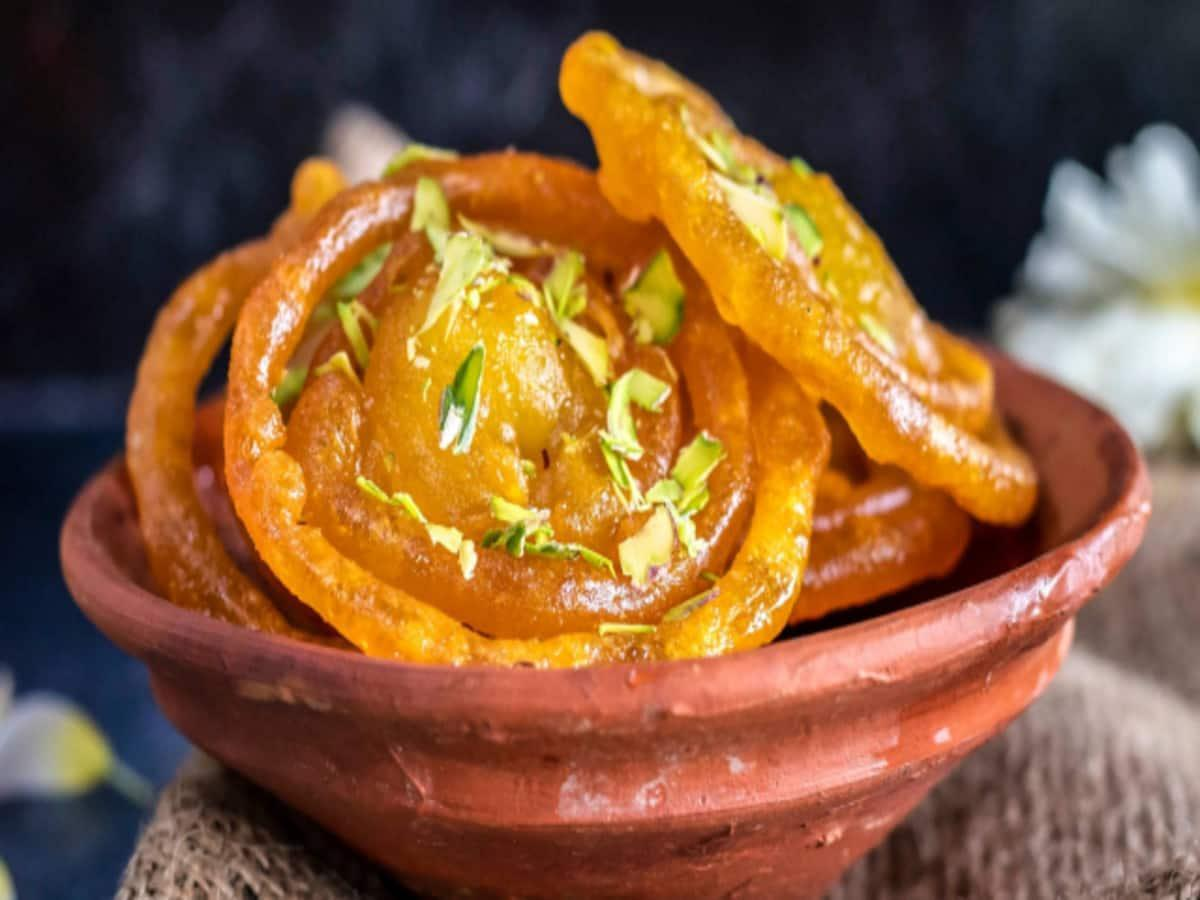jalebi: (107, 49, 1068, 670)
